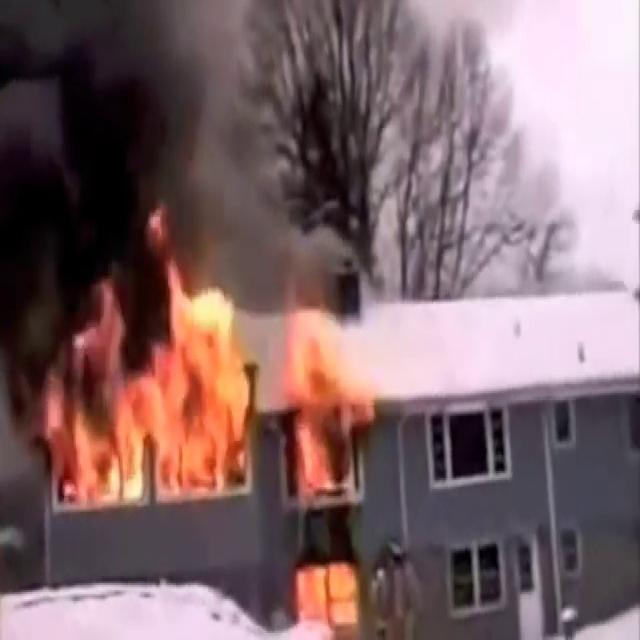Fire: (48, 252, 350, 522)
Smoke: (0, 0, 329, 338)
